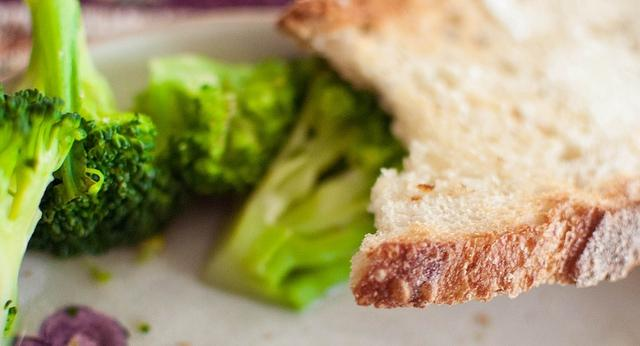broccoli: (193, 69, 407, 314), (0, 1, 185, 259), (132, 51, 330, 234), (0, 88, 88, 346)
